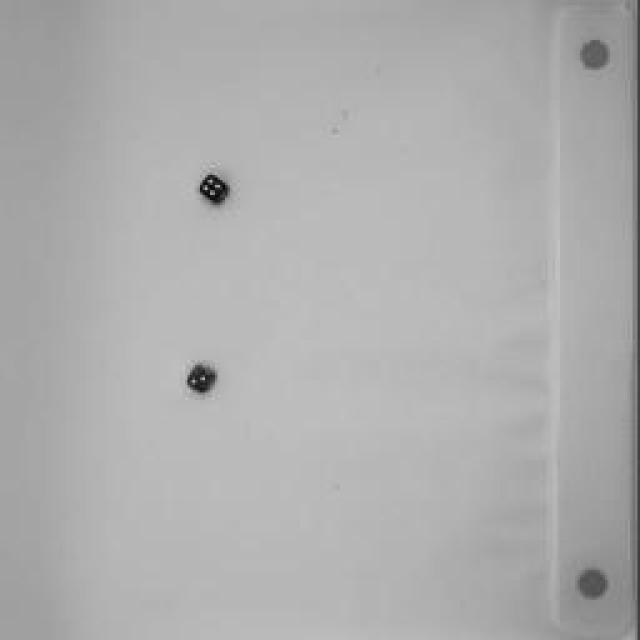dice_2: (186, 364, 222, 396)
dice_4: (200, 175, 232, 207)
